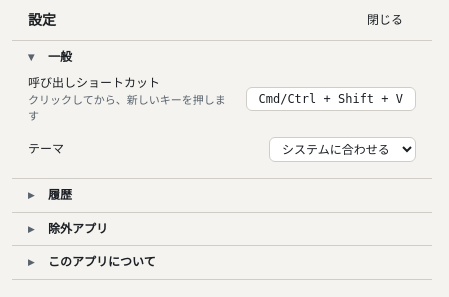
it: SettingsWindow › ショートカット › 修飾キー付きのキーを押すと set_shortcut が呼ばれ、表示が変わる
Click the button with aria-label "呼び出しショートカット".
click(331, 99)  # box left=246, top=87, right=416, bottom=111
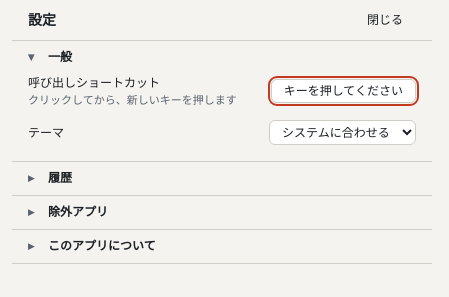
Type keys "{Control>}{Alt>}k{/Alt}{/Control}"
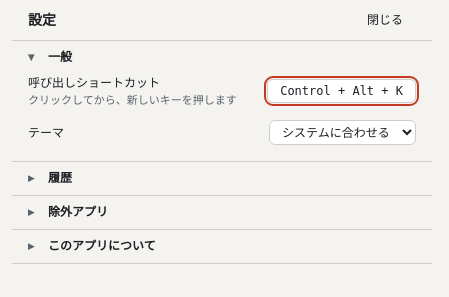
Result: the button with aria-label "呼び出しショートカット" reads "Control + Alt + K" at left=267, top=79, right=416, bottom=103
